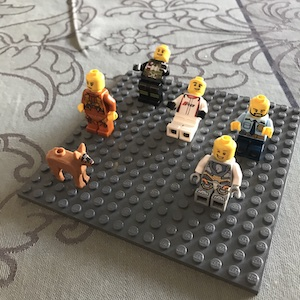Lego: (187, 136, 244, 211), (226, 93, 277, 160), (163, 75, 210, 142), (75, 68, 117, 135), (132, 44, 173, 108)
